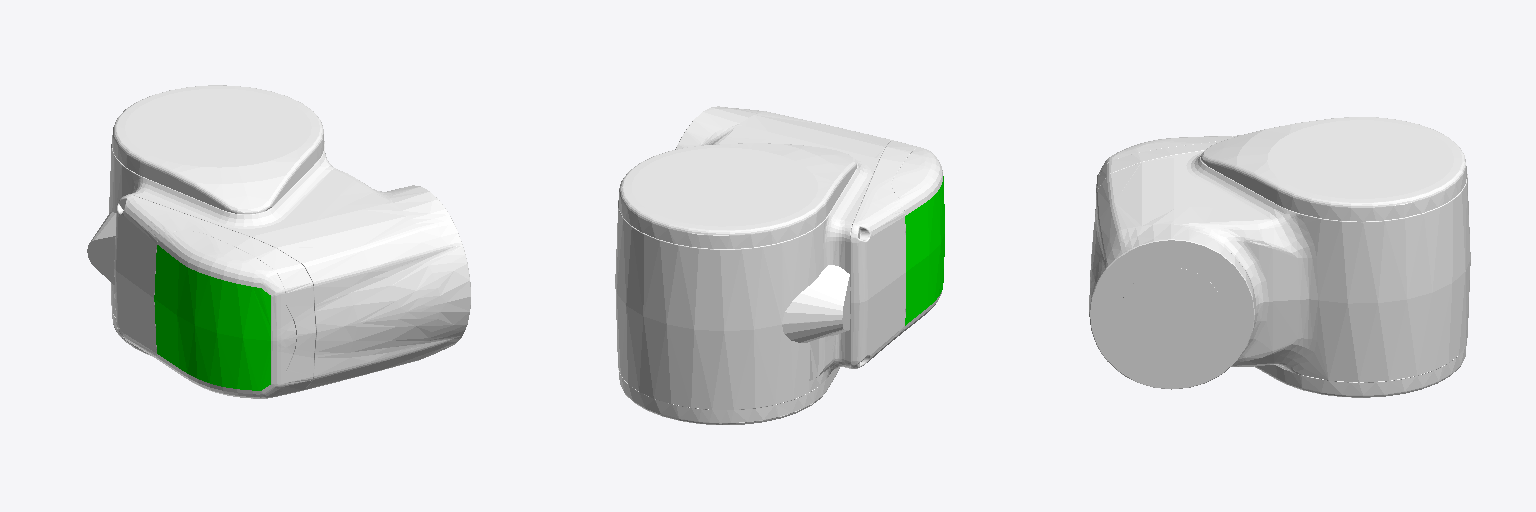
3 views of the same model, side by side, from view 1: azimuth 30°, elevation 25°; view 2: azimuth 150°, elevation 25°; view 3: azimuth 270°, elevation 25° (orthographic).
Parts seen in each view (by area): view 1: L0400_GearBox_CMZ05-01_00\ﾊﾟｰﾂ ﾎﾞﾃﾞｨｰ; view 2: L0400_GearBox_CMZ05-01_00\ﾊﾟｰﾂ ﾎﾞﾃﾞｨｰ; view 3: L0400_GearBox_CMZ05-01_00\ﾊﾟｰﾂ ﾎﾞﾃﾞｨｰ.
Part boxes in pixels (x1,y1,x2,y2): L0400_GearBox_CMZ05-01_00\ﾊﾟｰﾂ ﾎﾞﾃﾞｨｰ: (87,85,470,398); L0400_GearBox_CMZ05-01_00\ﾊﾟｰﾂ ﾎﾞﾃﾞｨｰ: (615,106,944,424); L0400_GearBox_CMZ05-01_00\ﾊﾟｰﾂ ﾎﾞﾃﾞｨｰ: (1089,117,1470,397).
Bounding box in the file's own units: 0.1862 × 0.143 × 0.253.